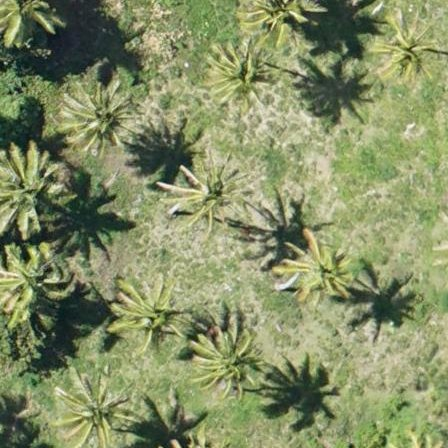palm_tree: (1, 145, 71, 237), (1, 246, 72, 327), (170, 163, 243, 233), (62, 86, 131, 153), (281, 239, 349, 306), (190, 329, 258, 395), (373, 15, 437, 81), (207, 43, 276, 103), (60, 371, 121, 437), (118, 272, 177, 335), (1, 1, 63, 47), (246, 1, 315, 37)
